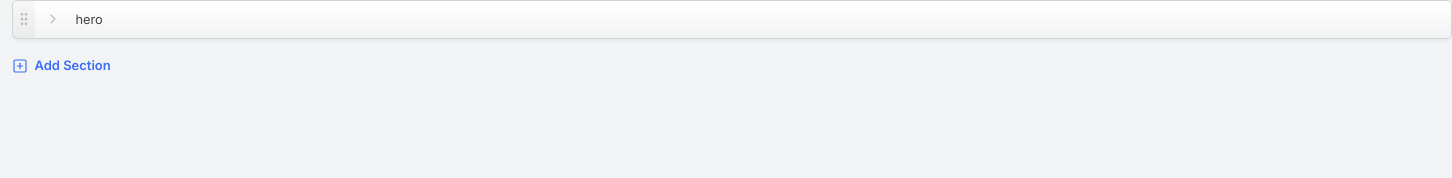
Test: SectionList › the chevron collapses and expands a section's nested blocks without opening its Fields tab
Click the button named "Expand". click: coordinates (53, 19)
box: [39,5,67,33]
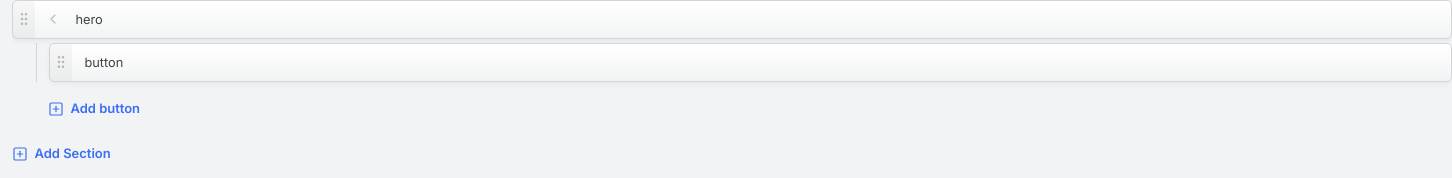
Now the button with aria-label "Edit button" is shown, box [49,43,1451,82]
Click the button named "Collapse". click: coordinates (53, 19)
box: [39,5,67,33]
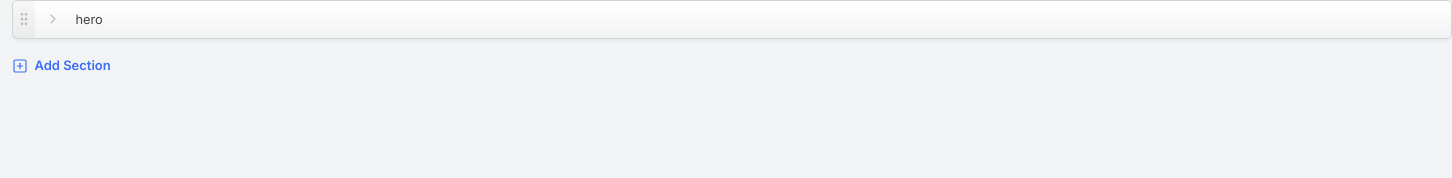
Now the button "Add button" is gone
